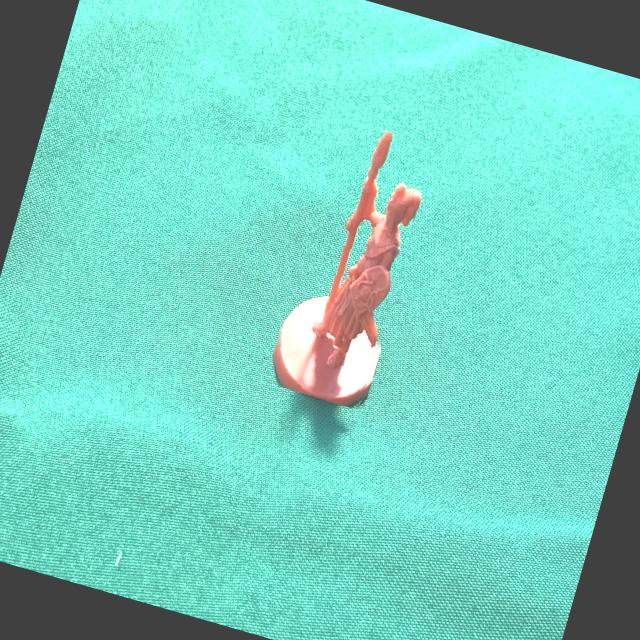amon_follower: (273, 131, 421, 407)
